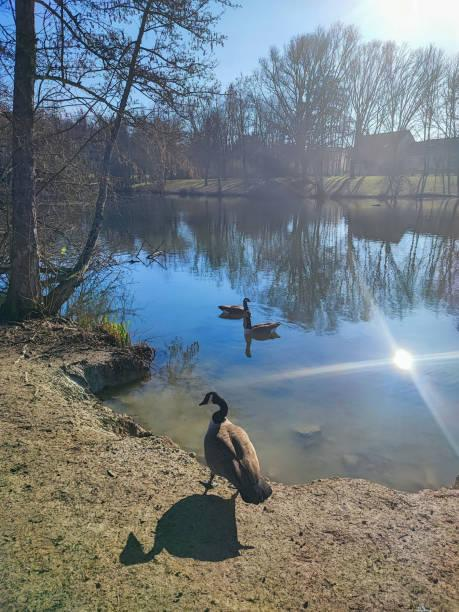Canadian-Goose: (194, 387, 278, 509)
